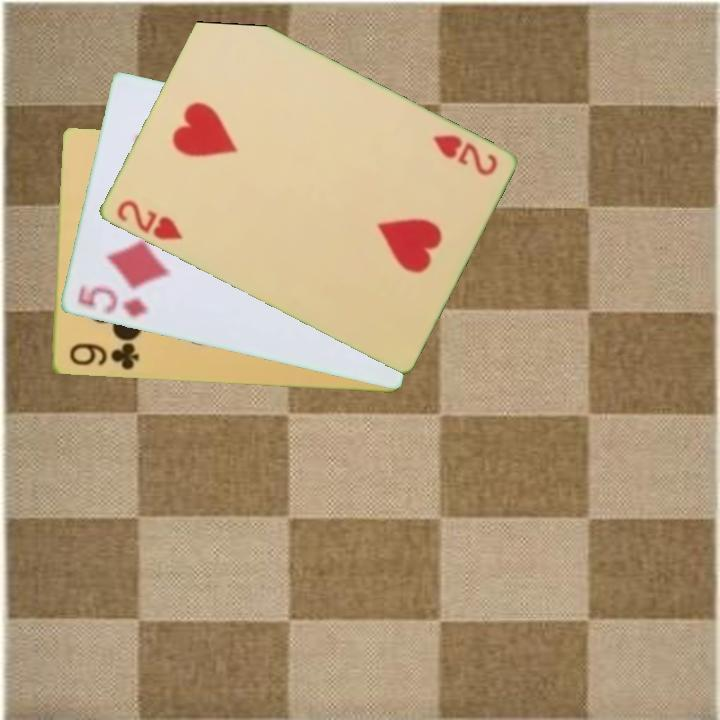2h: (112, 196, 185, 243), (429, 131, 500, 179)
5d: (73, 280, 150, 321)
9c: (66, 340, 141, 374)
